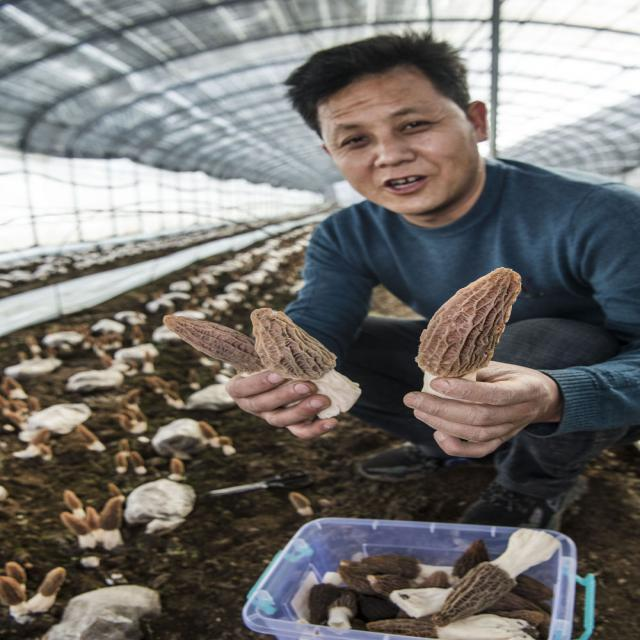Morchella esculenta: (171, 303, 354, 415), (419, 272, 519, 392), (444, 527, 555, 621)
